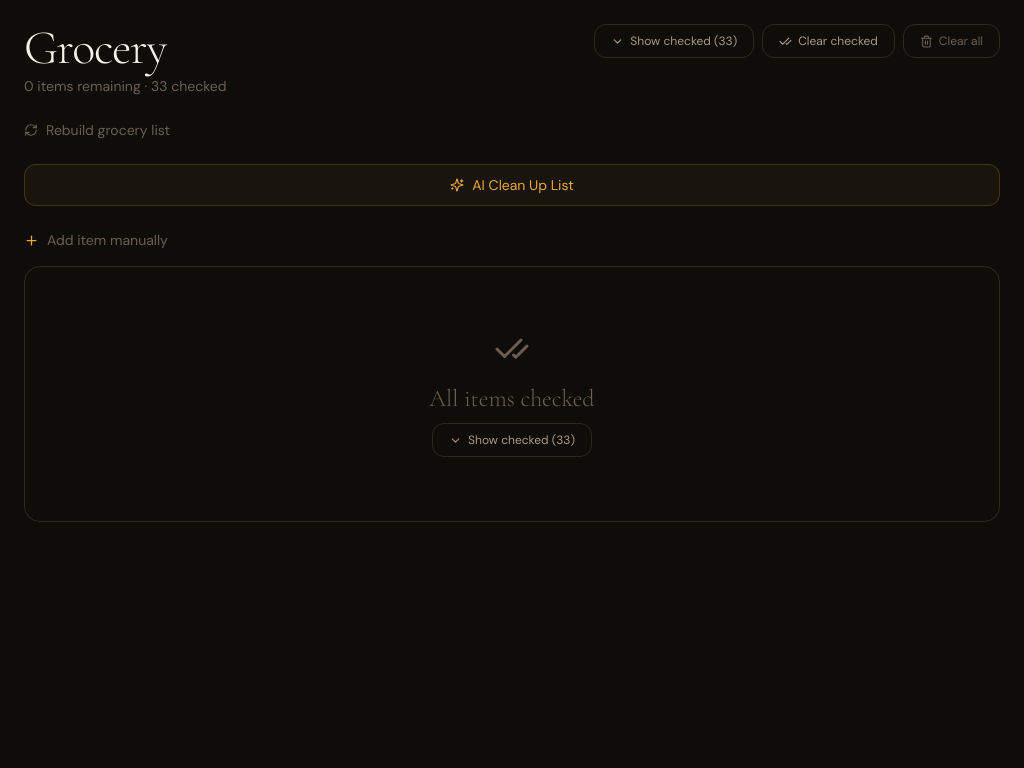
AI grocery cleanup page workflow › skips authentication, AI, persistence, and timestamp updates when all items are checked
The width and height of the screenshot is (1024, 768).
Step 1. Click the button "AI Clean Up List" → (512, 185), box [24, 164, 1000, 206]
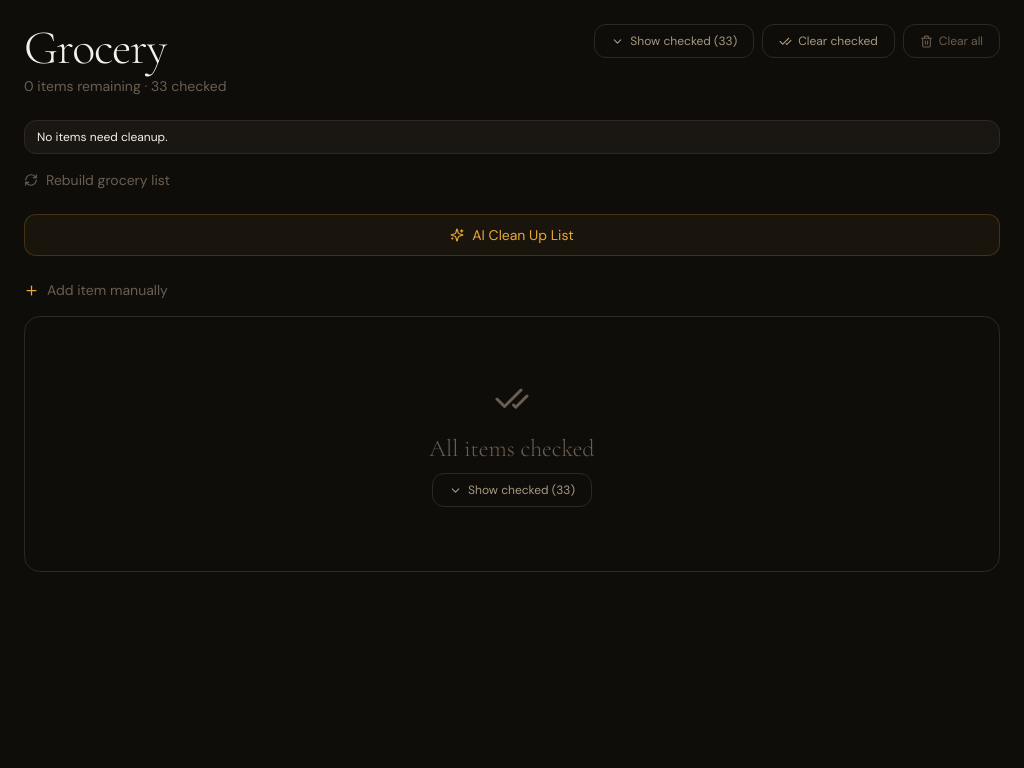
Check: the text "No items need cleanup." is shown, box [24, 120, 1000, 154]
